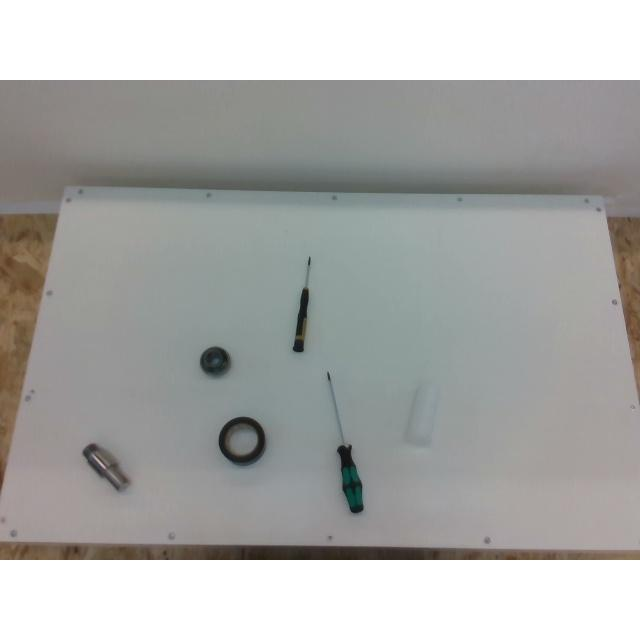Axis2: (82, 442, 130, 490)
Bearing2: (200, 346, 230, 376)
Screwdriver: (326, 371, 362, 513)
Spacer: (404, 381, 440, 445)
